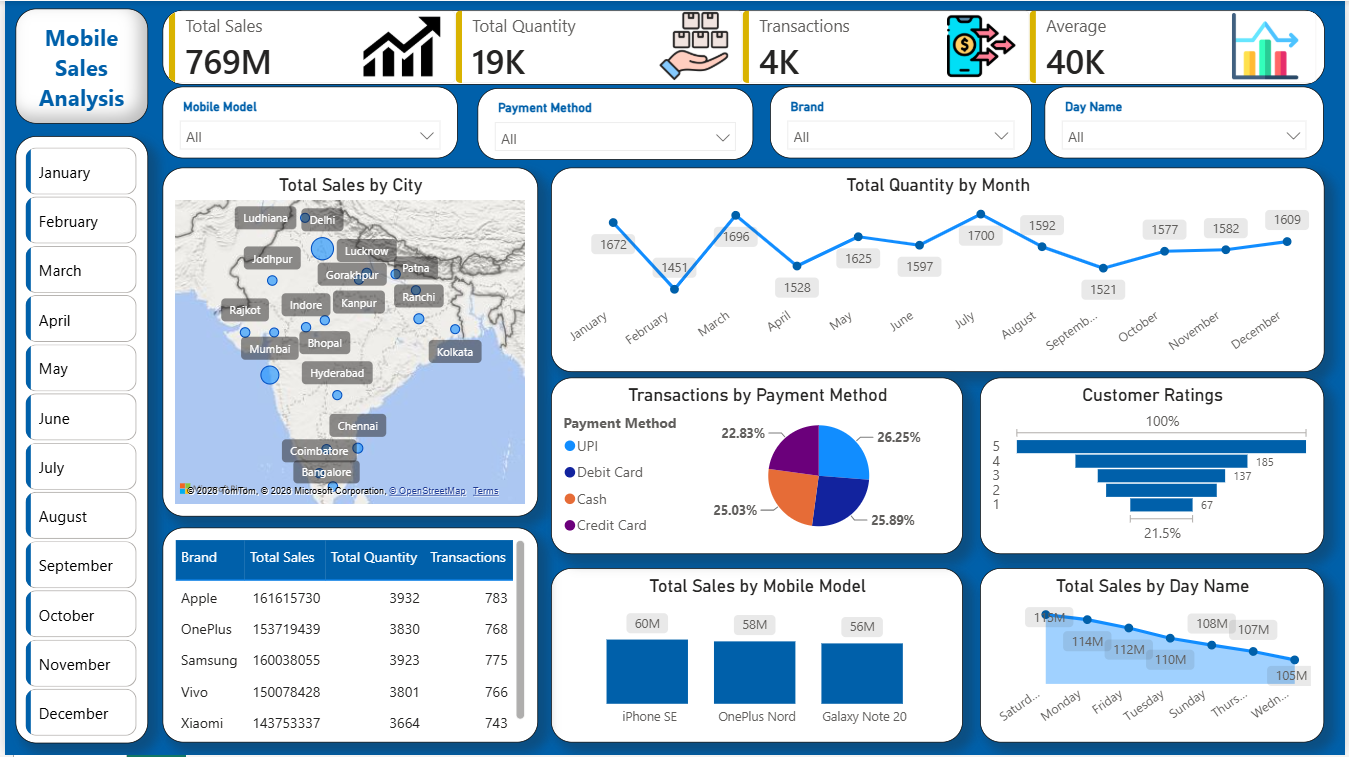

The page's visual inventory and layout, read from the dashboard file:
{"tool":"powerbi","page":{"name":"Page 1","canvas":[1280,720],"ordinal":0},"visuals":[{"type":"shape","box":[10,128.3,126.7,580],"z":0},{"type":"advancedSlicerVisual","fields":{"Values":["Mobile_Sales_Data.Date.Variation.Date Hierarchy.Month"]},"box":[15,135,116.7,573.3],"z":1000},{"type":"map","fields":{"Category":["Mobile_Sales_Data.City"],"Size":["Mobile_Sales_Data.Total Sales"]},"box":[150,158.3,358.3,333.3],"z":2000},{"type":"lineChart","fields":{"Y":["Mobile_Sales_Data.Total Quantity"],"Category":["Mobile_Sales_Data.Date.Variation.Date Hierarchy.Month","Mobile_Sales_Data.Date.Variation.Date Hierarchy.Day"]},"box":[521.7,158.3,738.3,195],"z":3000},{"type":"clusteredColumnChart","fields":{"Category":["Mobile_Sales_Data.Mobile Model"],"Y":["Mobile_Sales_Data.Total Sales"]},"box":[521.7,541.7,393.3,166.7],"z":4000},{"type":"textbox","box":[10,6.7,126.7,110],"z":5000},{"type":"pieChart","fields":{"Category":["Mobile_Sales_Data.Payment Method"],"Y":["Mobile_Sales_Data.Transactions"]},"box":[521.7,360,393.3,168.3],"z":6000},{"type":"funnel","title":"Customer Ratings","fields":{"Category":["Mobile_Sales_Data.Customer Ratings"],"Y":["CountNonNull(Mobile_Sales_Data.Customer Ratings)"]},"box":[931.7,360,328.3,168.3],"z":7000},{"type":"areaChart","fields":{"Category":["Mobile_Sales_Data.Day Name"],"Y":["Mobile_Sales_Data.Total Sales"]},"box":[931.7,541.7,328.3,166.7],"z":8000},{"type":"tableEx","fields":{"Values":["Mobile_Sales_Data.Brand","Mobile_Sales_Data.Total Sales","Mobile_Sales_Data.Total Quantity","Mobile_Sales_Data.Transactions"]},"box":[150,503.3,358.3,205],"z":9000},{"type":"slicer","fields":{"Values":["Mobile_Sales_Data.Mobile Model"]},"box":[150,81.7,281.7,68.3],"z":10000},{"type":"slicer","fields":{"Values":["Mobile_Sales_Data.Payment Method"]},"box":[451.7,83.3,263.3,68.3],"z":11000},{"type":"slicer","fields":{"Values":["Mobile_Sales_Data.Brand"]},"box":[730,81.7,250,68.3],"z":12000},{"type":"slicer","fields":{"Values":["Mobile_Sales_Data.Day Name"]},"box":[993.3,81.7,266.7,68.3],"z":13000},{"type":"cardVisual","fields":{"Data":["Mobile_Sales_Data.Total Sales","Mobile_Sales_Data.Total Quantity","Mobile_Sales_Data.Transactions","Mobile_Sales_Data.Average"]},"box":[150,8,1110,71],"z":14000},{"type":"image","box":[625,5,66.7,76.7],"z":15000},{"type":"image","box":[1161.7,11.7,83.3,63.3],"z":16000},{"type":"image","box":[900,1.7,65,83.3],"z":17000},{"type":"image","box":[341.7,3.3,73.3,81.7],"z":18000}]}

Visuals, with their boxes in screenshot pixels (x1, y1, x2, y2), scaled from the page's 1280x720 canvas onto the 1349x757 screenshot:
shape: 11,135,144,745
advancedSlicerVisual - Mobile_Sales_Data.Date.Variation.Date Hierarchy.Month: 16,142,139,745
map - Mobile_Sales_Data.City x Mobile_Sales_Data.Total Sales: 158,166,536,517
lineChart - Mobile_Sales_Data.Total Quantity x Mobile_Sales_Data.Date.Variation.Date Hierarchy.Month: 550,166,1328,371
clusteredColumnChart - Mobile_Sales_Data.Mobile Model x Mobile_Sales_Data.Total Sales: 550,570,964,745
textbox: 11,7,144,123
pieChart - Mobile_Sales_Data.Payment Method x Mobile_Sales_Data.Transactions: 550,378,964,555
"Customer Ratings" funnel: 982,378,1328,555
areaChart - Mobile_Sales_Data.Day Name x Mobile_Sales_Data.Total Sales: 982,570,1328,745
tableEx - Mobile_Sales_Data.Brand x Mobile_Sales_Data.Total Sales: 158,529,536,745
slicer - Mobile_Sales_Data.Mobile Model: 158,86,455,158
slicer - Mobile_Sales_Data.Payment Method: 476,88,754,159
slicer - Mobile_Sales_Data.Brand: 769,86,1033,158
slicer - Mobile_Sales_Data.Day Name: 1047,86,1328,158
cardVisual - Mobile_Sales_Data.Total Sales x Mobile_Sales_Data.Total Quantity: 158,8,1328,83
image: 659,5,729,86
image: 1224,12,1312,79
image: 949,2,1017,89
image: 360,3,437,89
